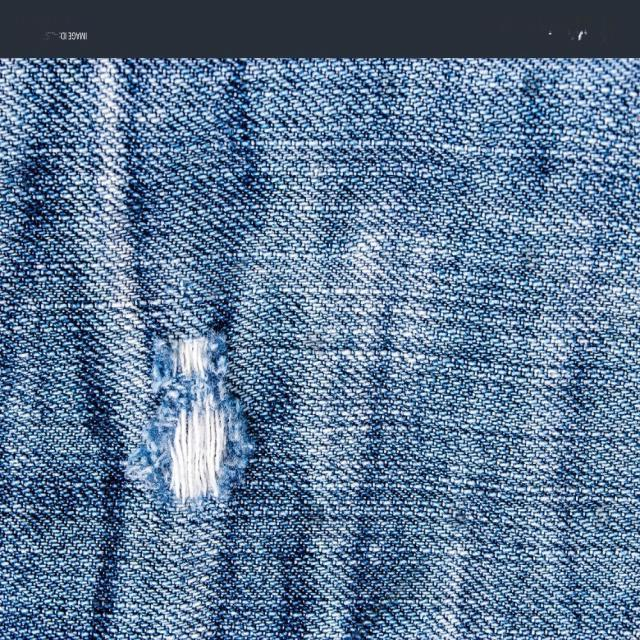Hole: (125, 331, 253, 510)
